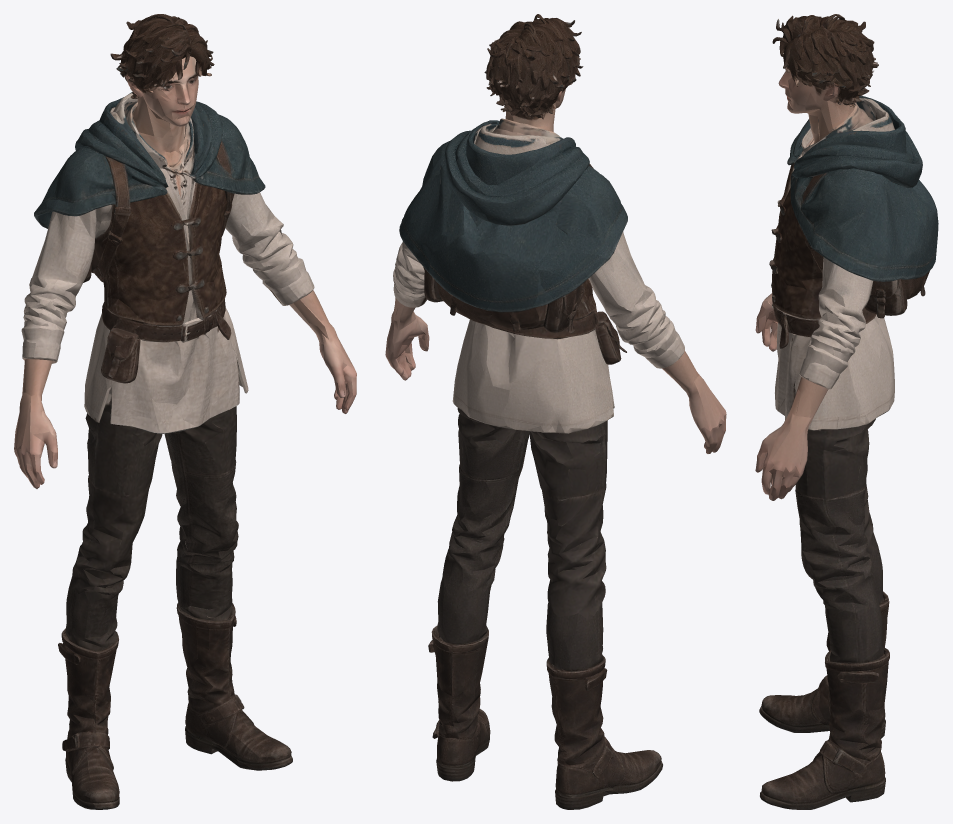
File: original.glb
3 views of the same model, side by side, from view 1: azimuth 30°, elevation 25°; view 2: azimuth 150°, elevation 25°; view 3: azimuth 270°, elevation 25° (orthographic).
Bounding box in the file's own units: 0.8743 × 1.9 × 0.4212.
Materials: 1 (1 with a texture image).
